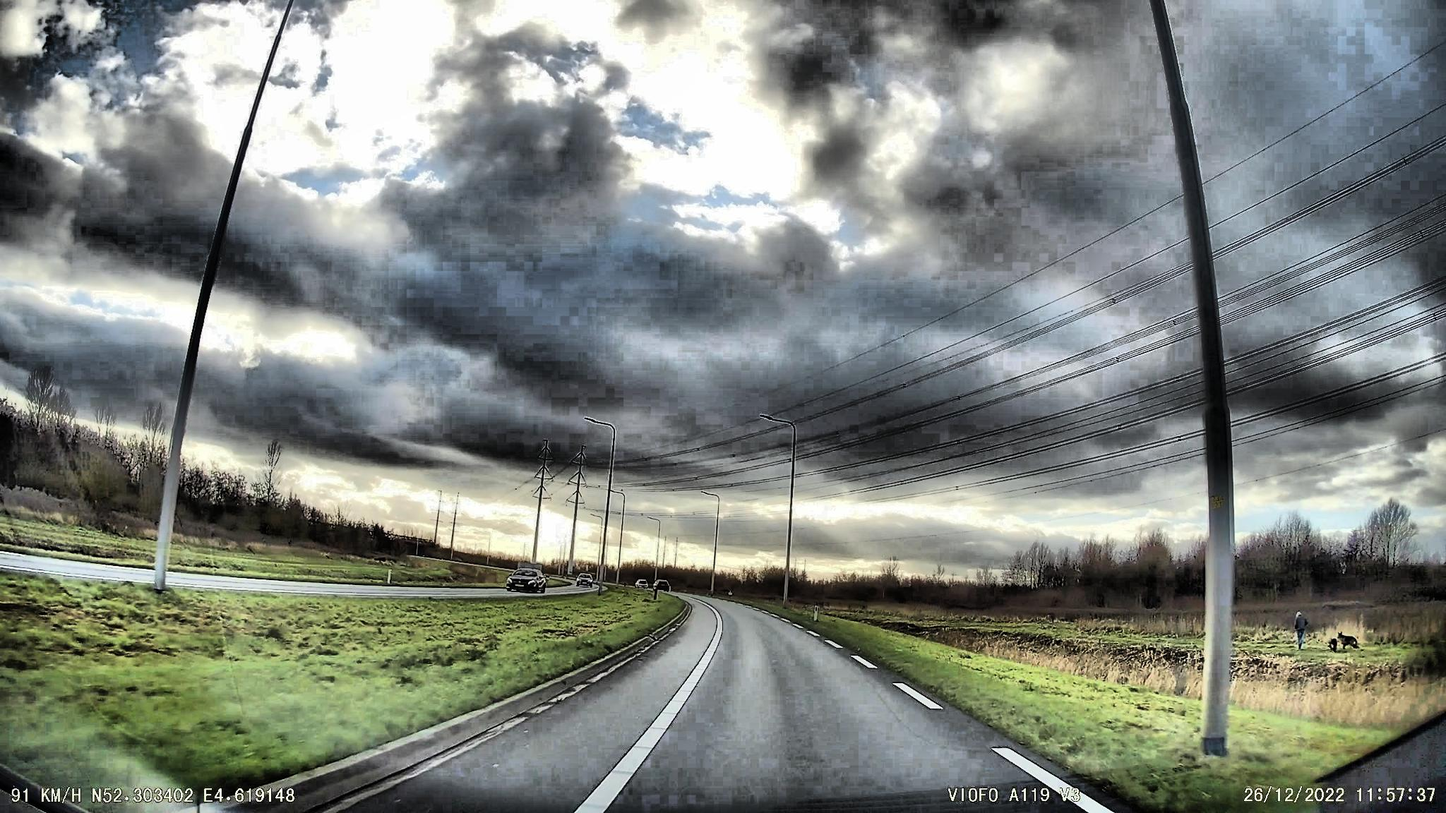Roads: (0, 600, 1147, 813)
